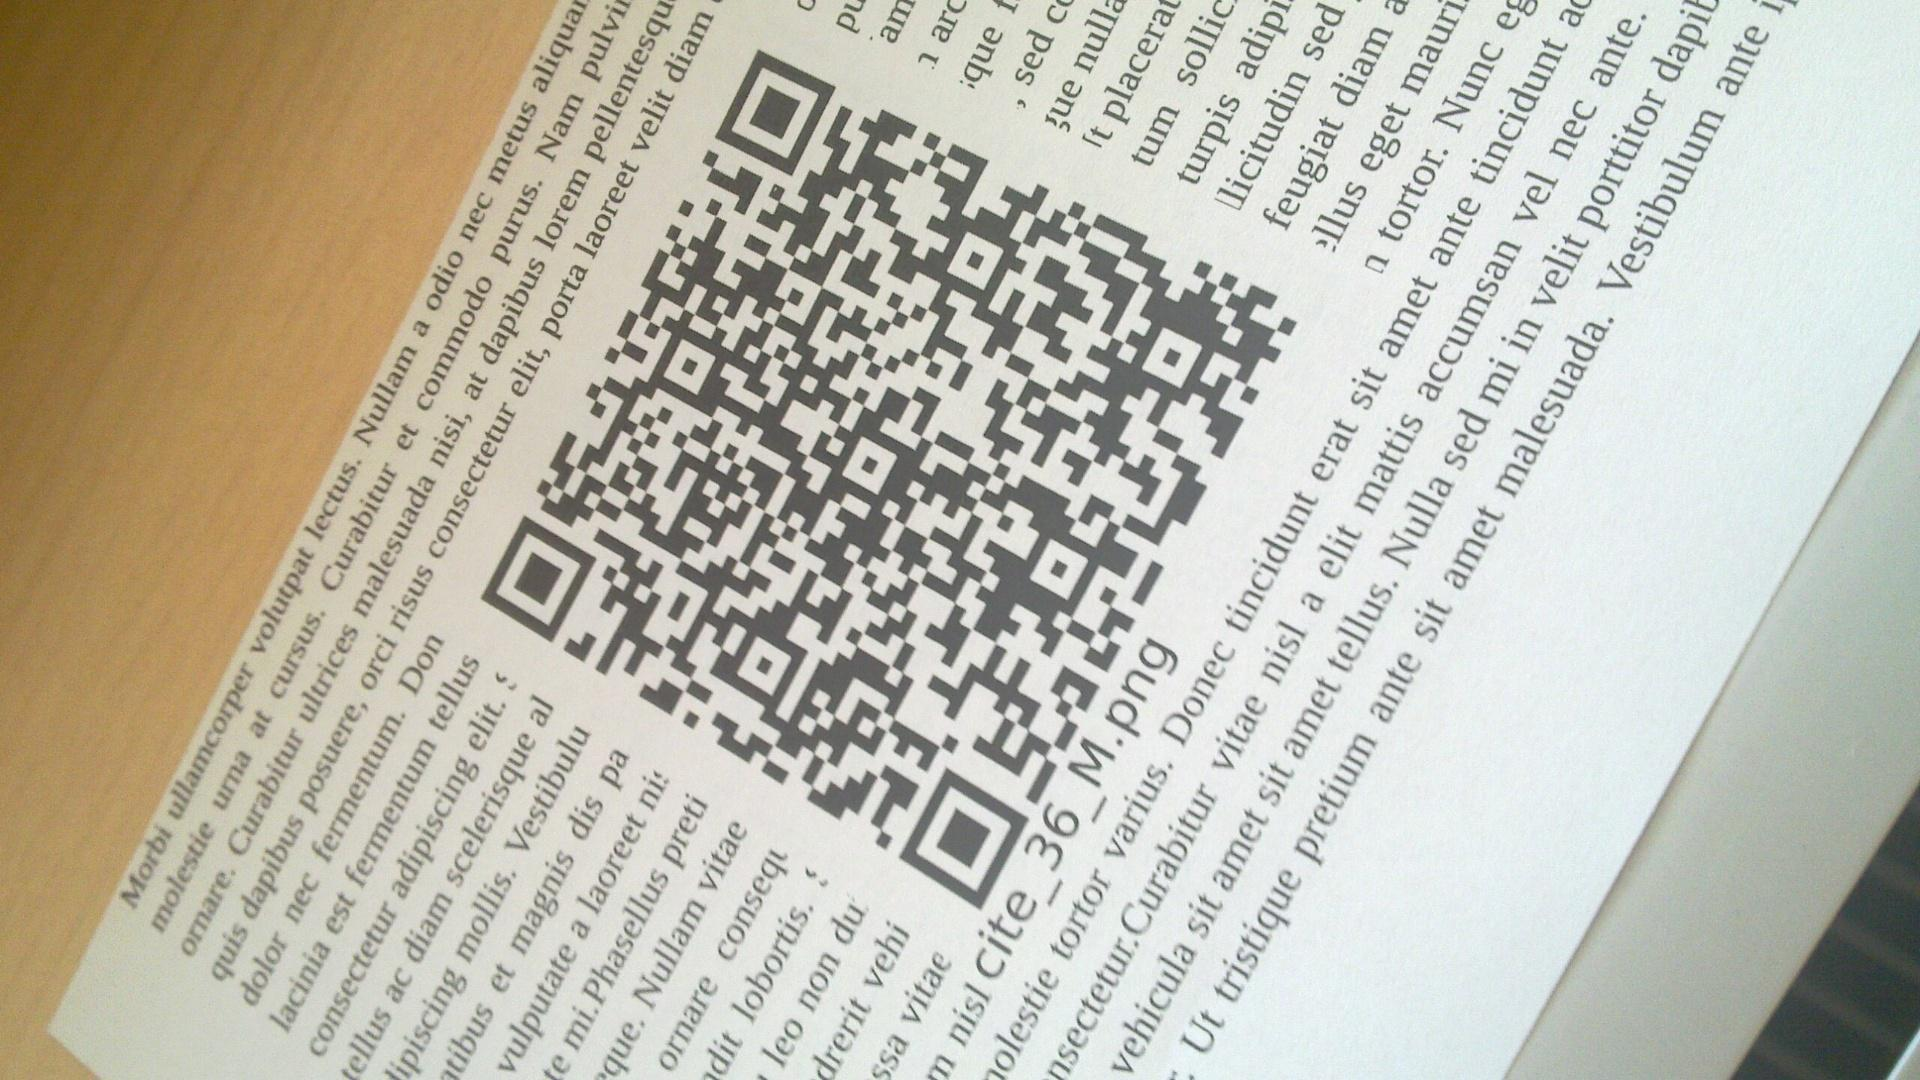Finder pattern: (898, 767, 1031, 915), (717, 47, 837, 175), (481, 517, 596, 641)
